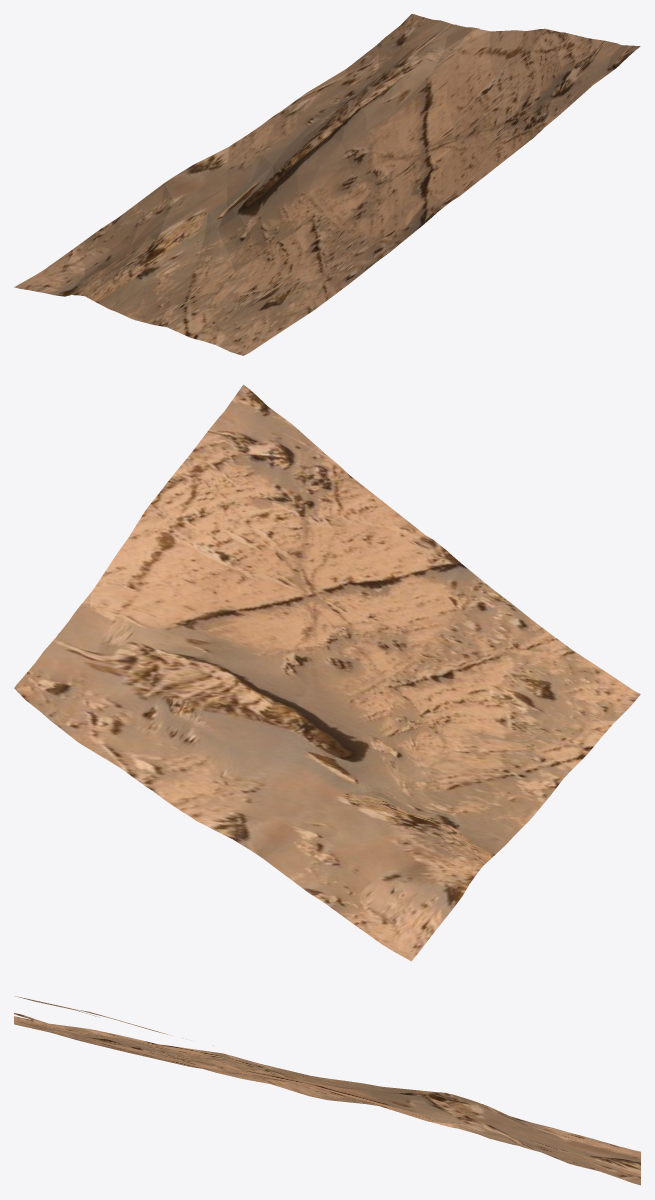
3 views of the same model, one above another, from view 1: azimuth 30°, elevation 25°; view 2: azimuth 150°, elevation 25°; view 3: azimuth 270°, elevation 25° (orthographic). The views are drawn at different scales.
Bounding box in the file's own units: 1.04 × 0.7834 × 1.04.
Materials: 3 (3 with a texture image).
